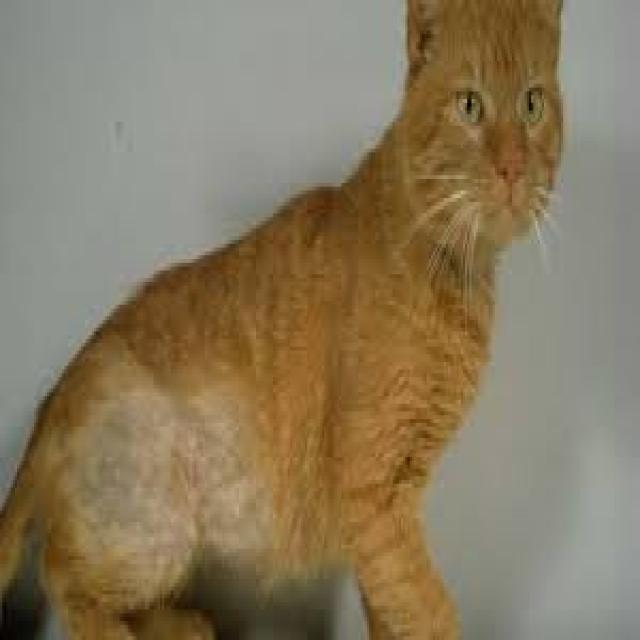cat-hairloss: (79, 378, 244, 572)
